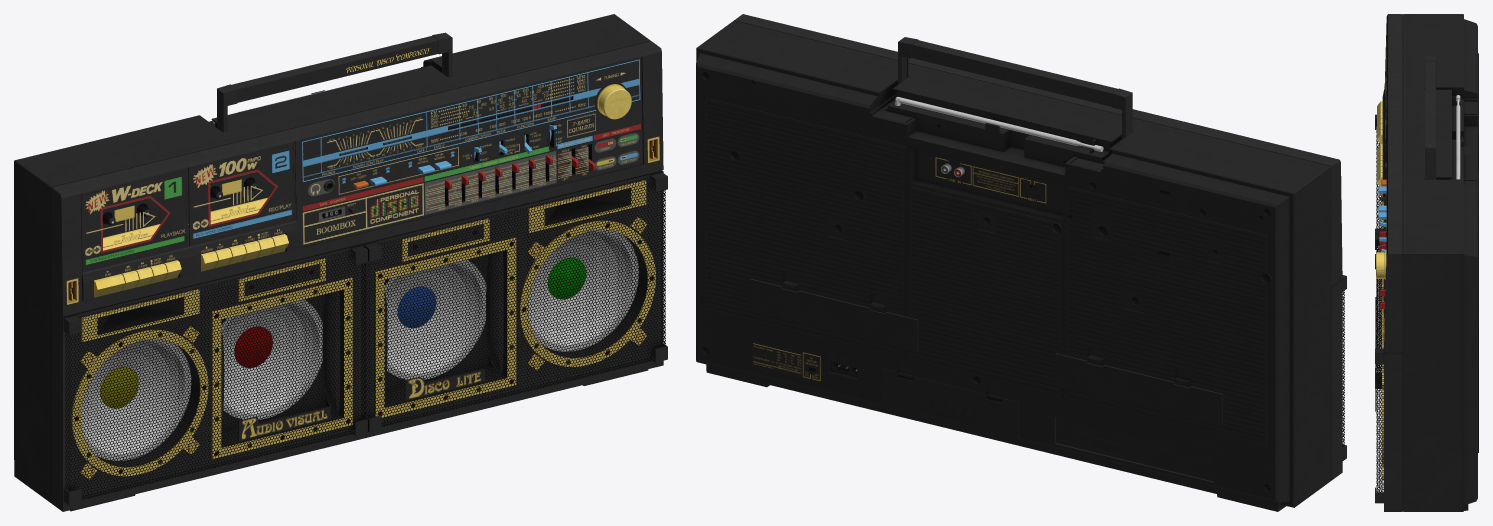
Rendered from BoomboxStandard.fbx.
3 renders of one model, left to right at view 1: azimuth 30°, elevation 25°; view 2: azimuth 150°, elevation 25°; view 3: azimuth 270°, elevation 25°, orthographic. The views are drawn at different scales.
Visible parts, largest first — view 1: boombox; view 2: boombox; view 3: boombox.
Part boxes in pixels (x1,y1,x2,y2): boombox: (14,14,667,511); boombox: (696,14,1346,511); boombox: (1375,14,1478,511).
Size of the model in its own units: 72 by 41.31 by 13.17.
Materials: 10 (9 with a texture image).
